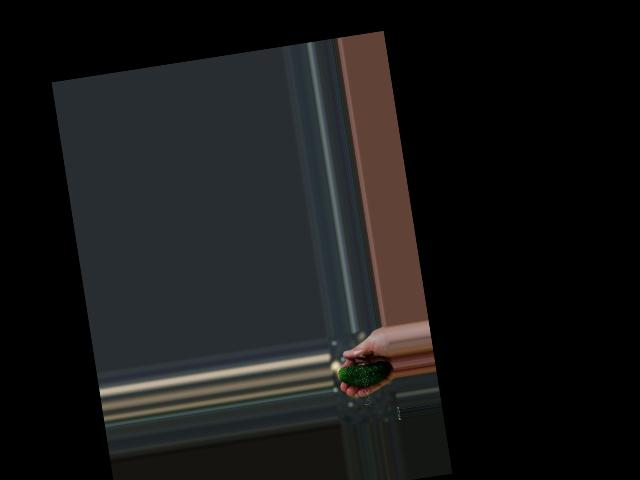cucumber: (338, 360, 392, 390)
